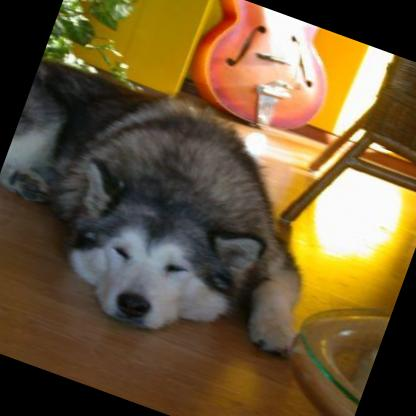malamute: (0, 48, 359, 381)
